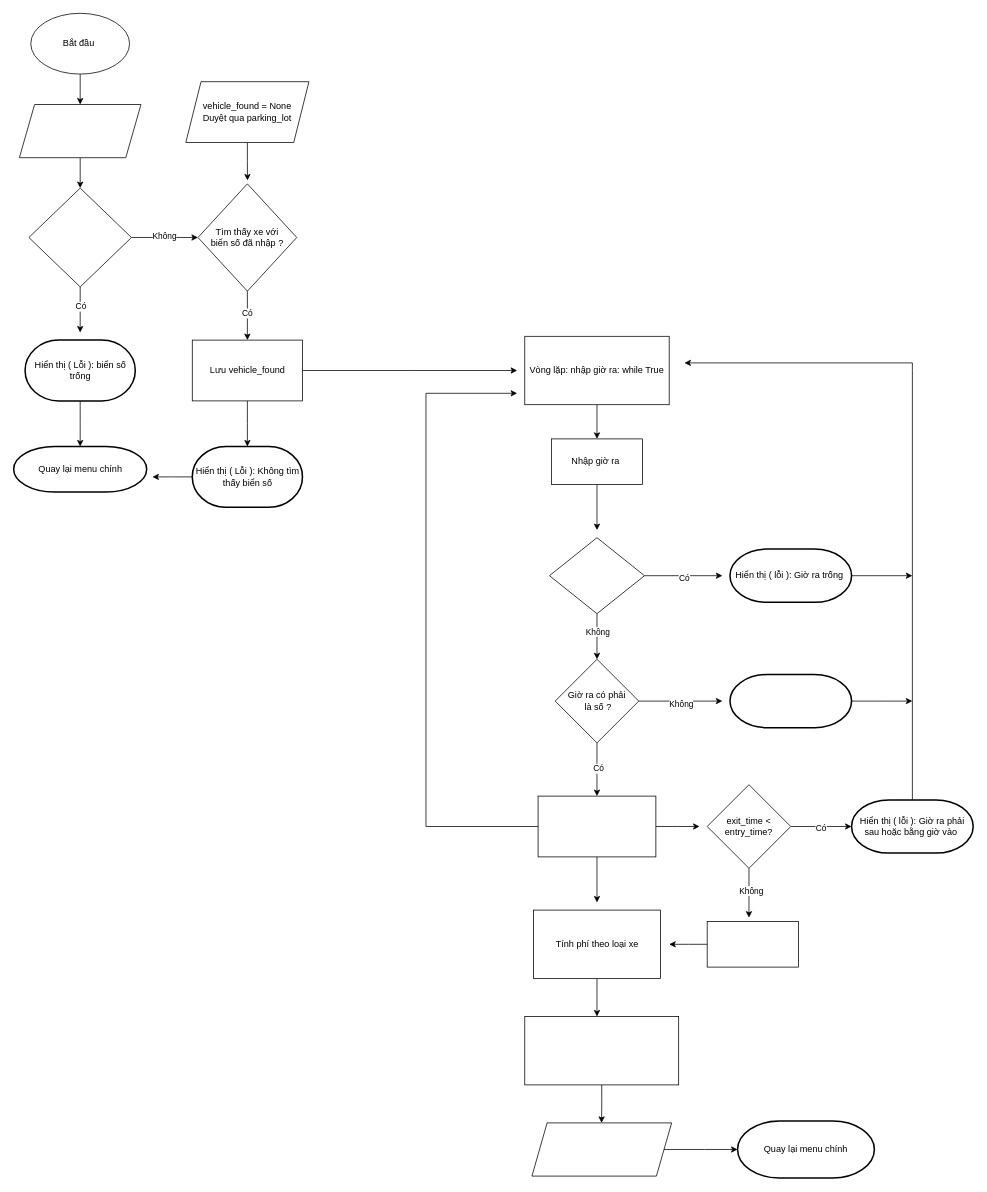
Some shapes in this 987 by 1192 pixel diagram are drawn without their labels. The centre of each missing label's shape, as x and y in pixels:
"Biển số trống" belongs at pixel 79 237.
"break" belongs at pixel 752 944.
"Giờ ra trống?" belongs at pixel 596 575.
"Hiển thị ( lỗi ): Kiểu dữ liệu không hợp lệ" belongs at pixel 790 700.
"Hiển thị kết quả: Tổng phí , ID xe" belongs at pixel 601 1149.
"Nhập biển số xe cần ra" belongs at pixel 80 131.
"xóa vehicle_found khỏi parking_lot: parking_lot.remove(vejicle_found)" belongs at pixel 601 1050.
"Ép kiểu int: exit_time = int(exit_time_str)" belongs at pixel 596 826.
